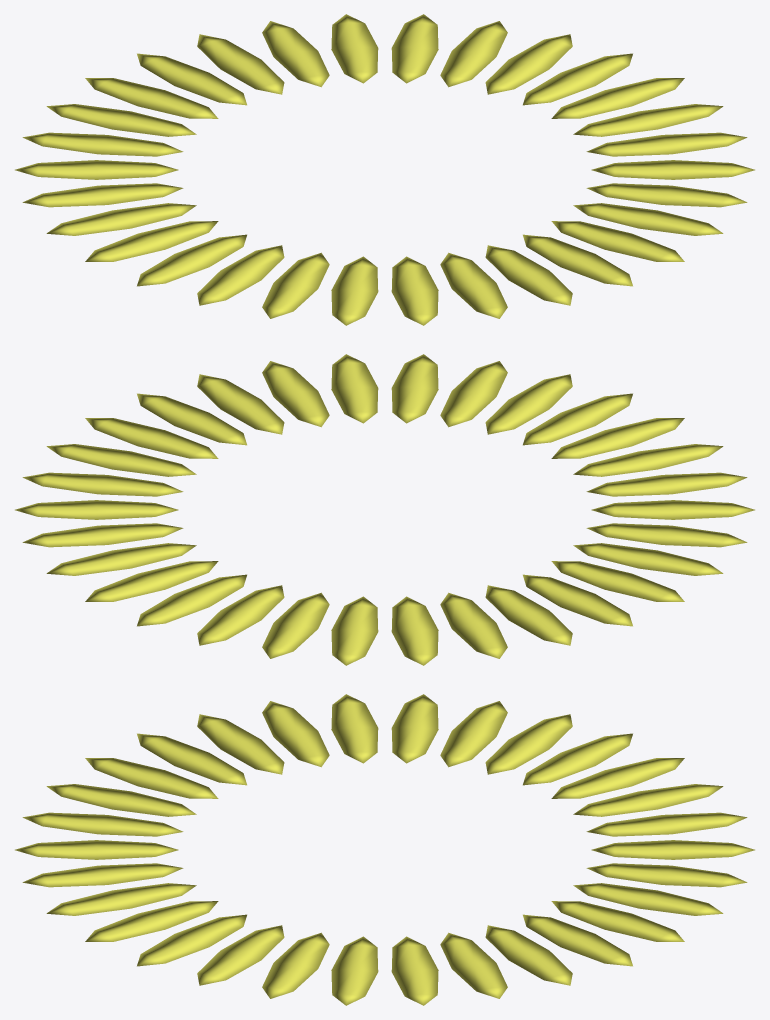
File: petals.fbx
3 views of the same model, one above another, from view 1: azimuth 30°, elevation 25°; view 2: azimuth 150°, elevation 25°; view 3: azimuth 270°, elevation 25° (orthographic).
Parts seen in each view (by area): view 1: pSphere7, pSphere22, pSphere6, pSphere8, pSphere21, pSphere23, pSphere5, pSphere9, pSphere20, pSphere24, pSphere4, pSphere10 (+18 smaller); view 2: pSphere12, pSphere27, pSphere11, pSphere13, pSphere26, pSphere28, pSphere10, pSphere14, pSphere25, pSphere29, pSphere9, pSphere15 (+18 smaller); view 3: pSphere1, pSphere17, pSphere3, pSphere16, pSphere18, pSphere31, pSphere4, pSphere15, pSphere19, pSphere30, pSphere5, pSphere14 (+18 smaller).
Part boxes in pixels (box(x1,y1,x2,y2)): pSphere7: box(15, 160, 178, 179); pSphere22: box(591, 160, 754, 179); pSphere6: box(22, 132, 183, 156); pSphere8: box(22, 183, 183, 207); pSphere21: box(586, 183, 747, 207); pSphere23: box(586, 132, 747, 156); pSphere5: box(46, 104, 196, 136); pSphere9: box(46, 203, 196, 235); pSphere20: box(573, 203, 723, 235); pSphere24: box(573, 104, 723, 136); pSphere4: box(85, 78, 218, 118); pSphere10: box(85, 221, 218, 261); pSphere12: box(591, 500, 754, 519); pSphere27: box(15, 500, 178, 519); pSphere11: box(586, 523, 747, 547); pSphere13: box(586, 472, 747, 496); pSphere26: box(22, 472, 183, 496); pSphere28: box(22, 523, 183, 547); pSphere10: box(573, 543, 723, 575); pSphere14: box(573, 444, 723, 476); pSphere25: box(46, 444, 196, 476); pSphere29: box(46, 543, 196, 575); pSphere9: box(551, 561, 684, 601); pSphere15: box(551, 418, 684, 458); pSphere1: box(591, 840, 754, 859); pSphere17: box(15, 840, 178, 859); pSphere3: box(586, 812, 747, 836); pSphere16: box(22, 812, 183, 836); pSphere18: box(22, 863, 183, 887); pSphere31: box(586, 863, 747, 887); pSphere4: box(573, 784, 723, 816); pSphere15: box(46, 784, 196, 816); pSphere19: box(46, 883, 196, 915); pSphere30: box(573, 883, 723, 915); pSphere5: box(551, 758, 684, 798); pSphere14: box(85, 758, 218, 798).
Size of the model in its own units: 250 by 1.59 by 252.
